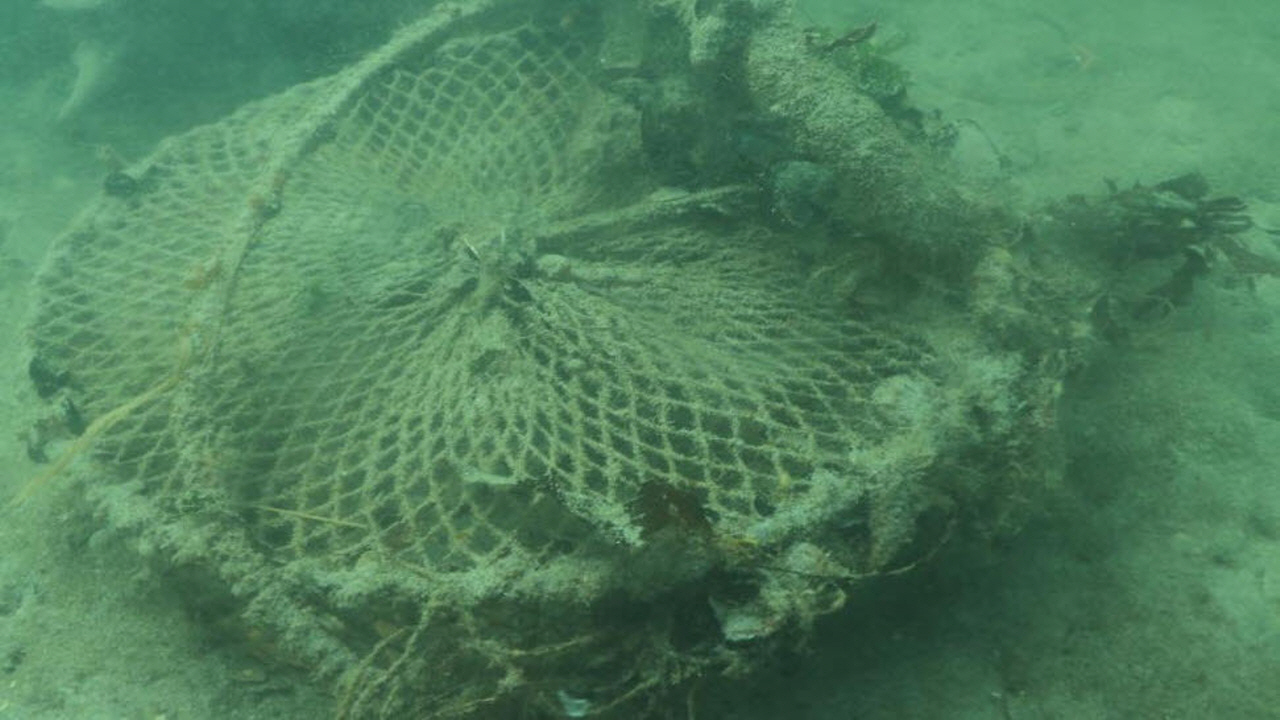circular fish trap: (16, 23, 979, 606)
